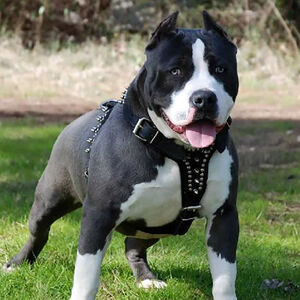Perro Pitbull: (88, 9, 253, 226)
